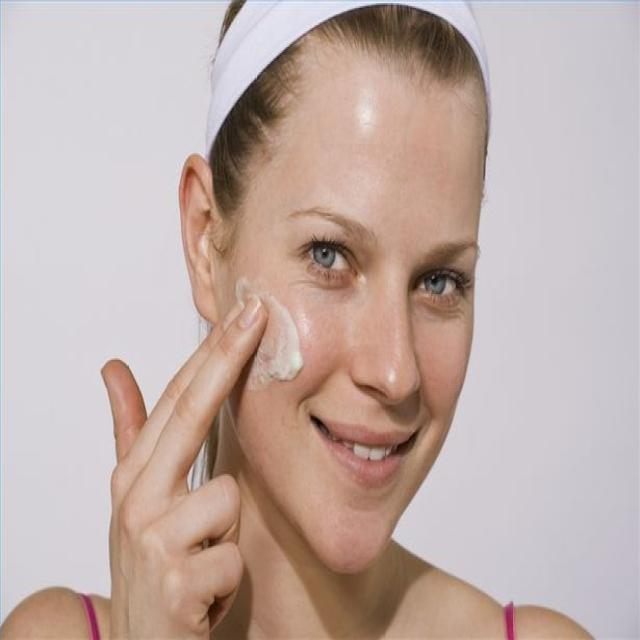oily: (386, 300, 404, 404), (349, 84, 379, 144), (294, 300, 314, 338)
